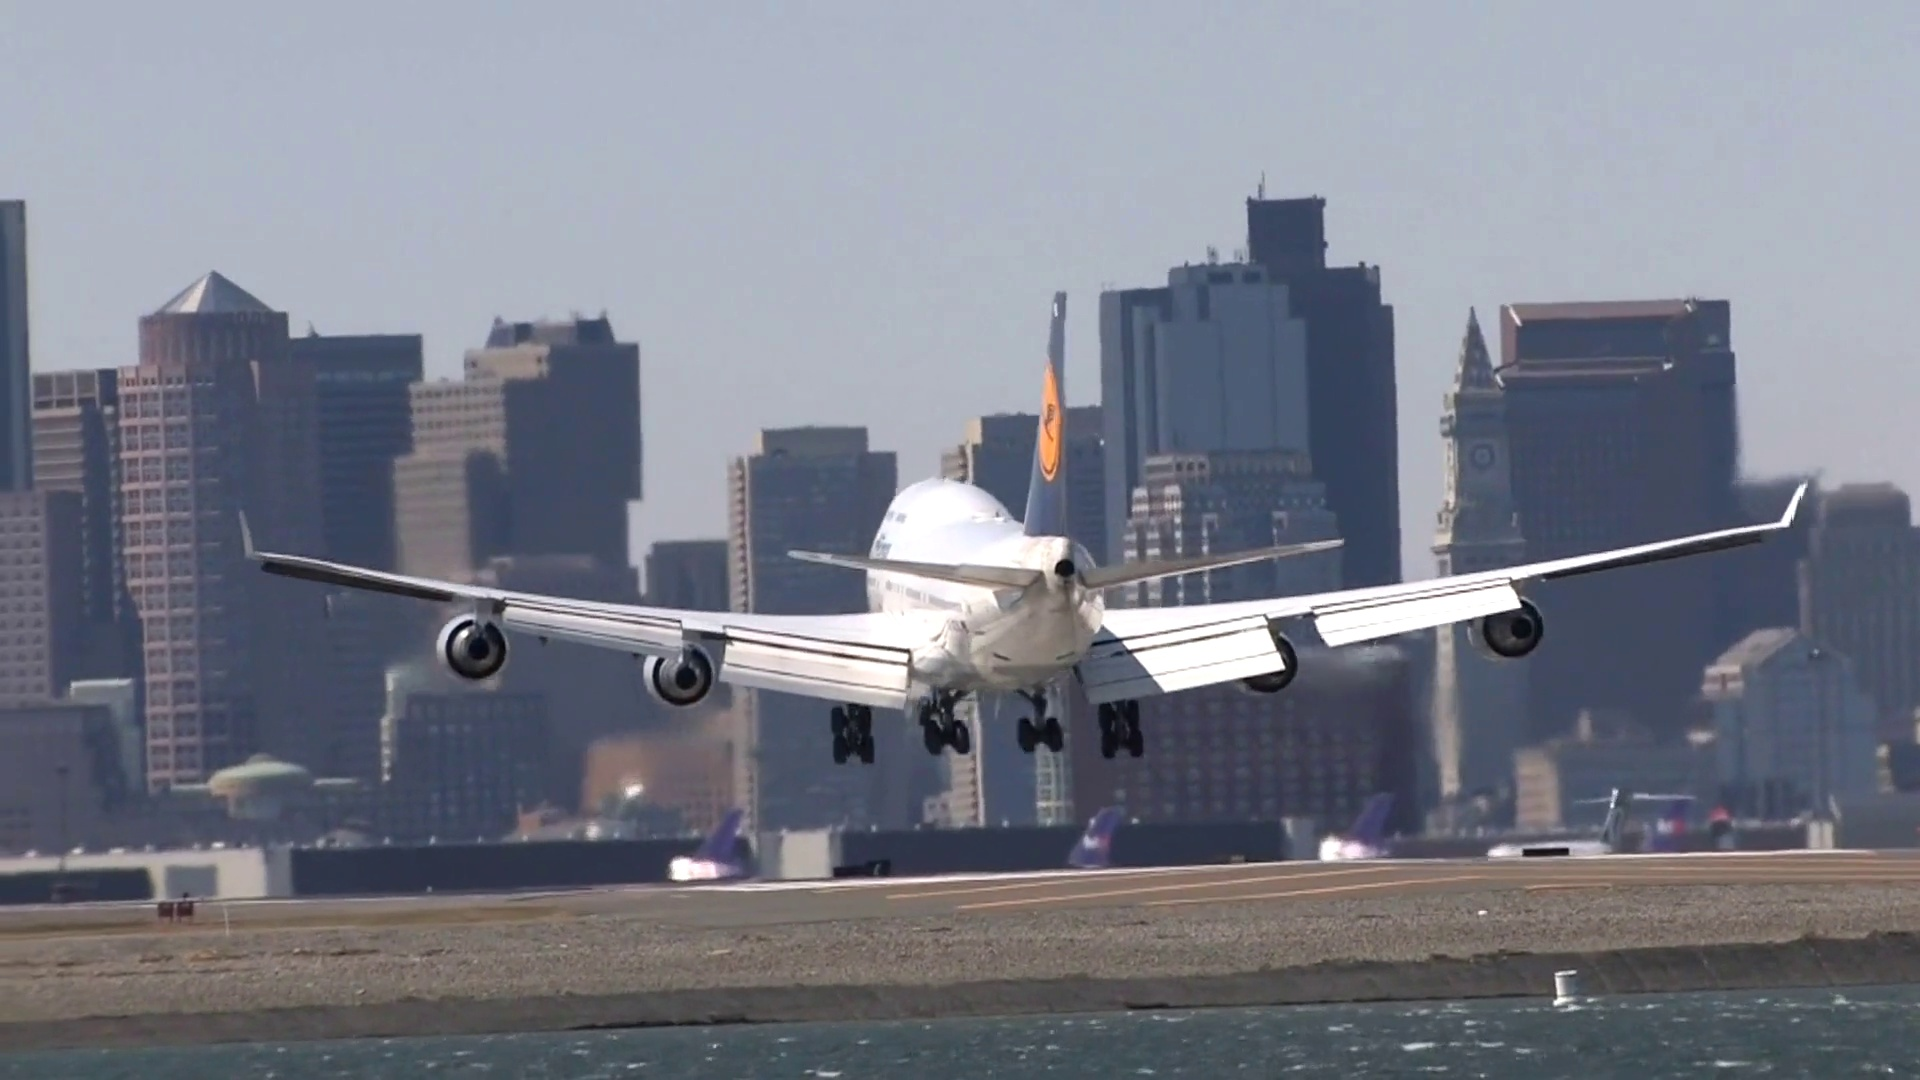plane: (237, 289, 1805, 764)
